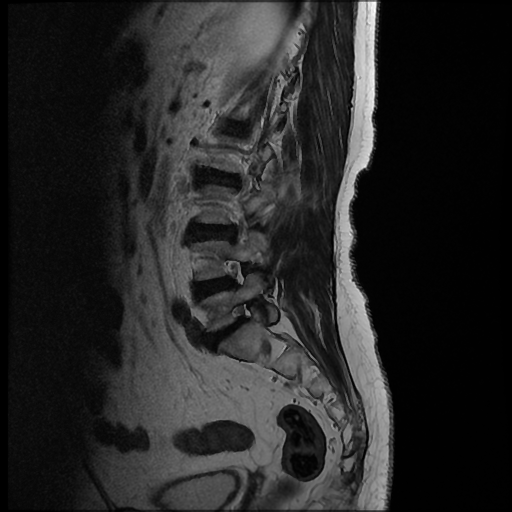LFS0: (215, 253, 253, 293)
LFS1: (224, 296, 263, 331)
